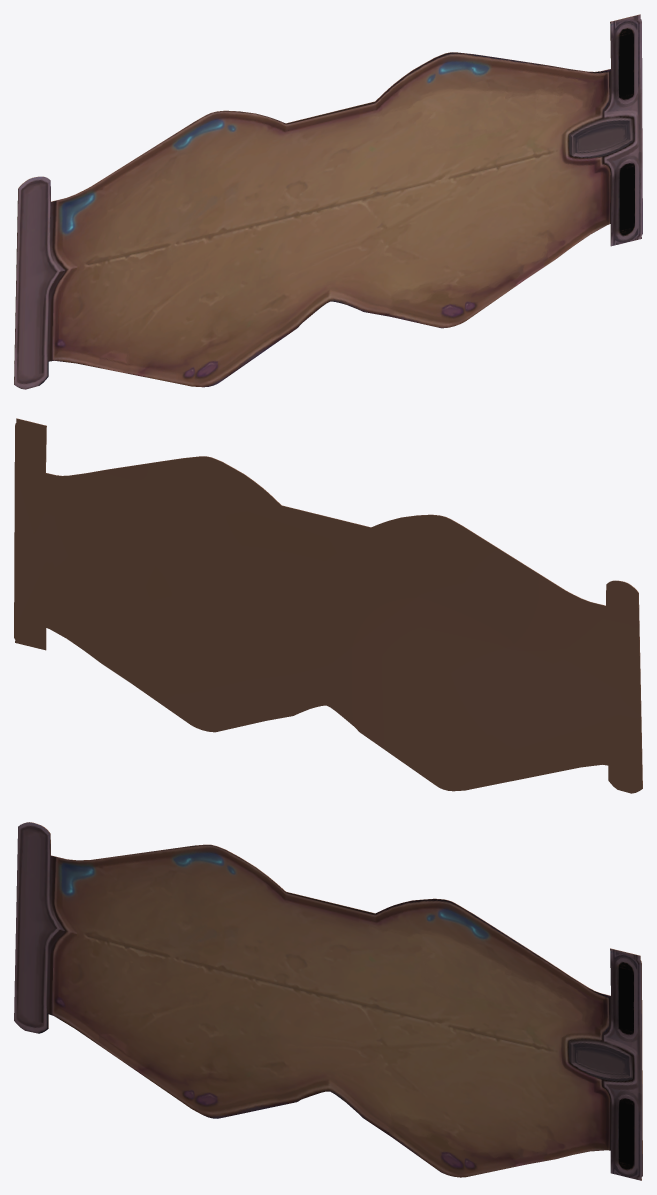
File: BoardZone.glb
3 views of the same model, one above another, from view 1: azimuth 30°, elevation 25°; view 2: azimuth 150°, elevation 25°; view 3: azimuth 330°, elevation 25° (orthographic).
Parts seen in each view (by area): view 1: Circle.001; view 2: Circle.001; view 3: Circle.001.
Part boxes in pixels (x1,y1,x2,y2): Circle.001: [14, 14, 642, 389]; Circle.001: [14, 418, 642, 793]; Circle.001: [14, 822, 642, 1180].
Size of the model in its own units: 33.45 by 14 by 0.0366.
1 material, 1 textured.
